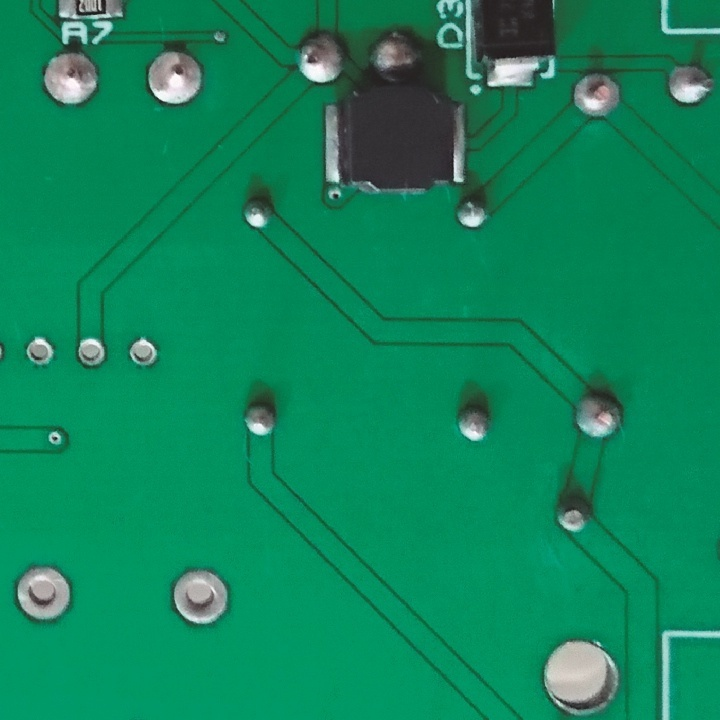F: (165, 562, 238, 630), (36, 49, 102, 111), (142, 46, 205, 109), (13, 562, 76, 623), (567, 68, 624, 126), (665, 60, 717, 109), (72, 334, 110, 372), (126, 337, 159, 375), (24, 336, 59, 369)
